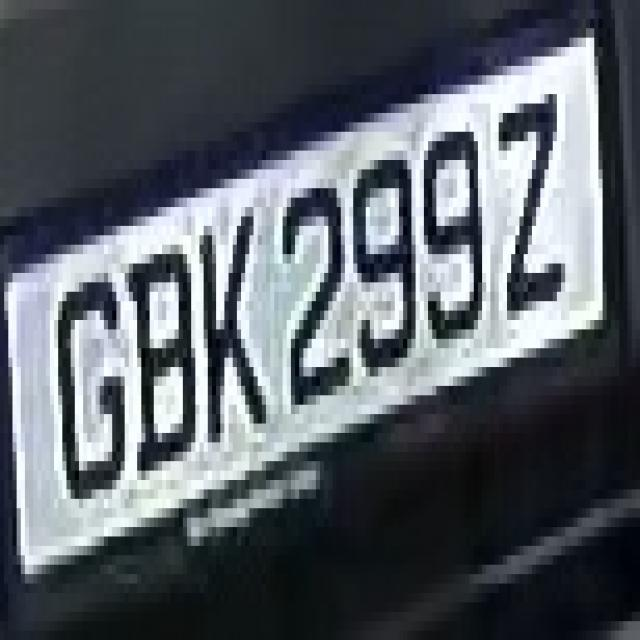2: (262, 132, 353, 470)
9: (341, 113, 428, 405), (412, 113, 486, 376)
B: (125, 216, 212, 489)
G: (46, 273, 129, 527)
K: (187, 179, 278, 499)
Z: (478, 47, 582, 320)
